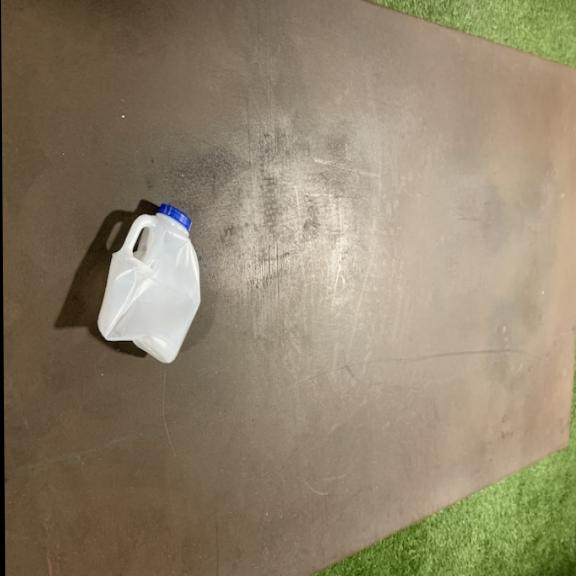Plastik: (95, 204, 202, 368)
